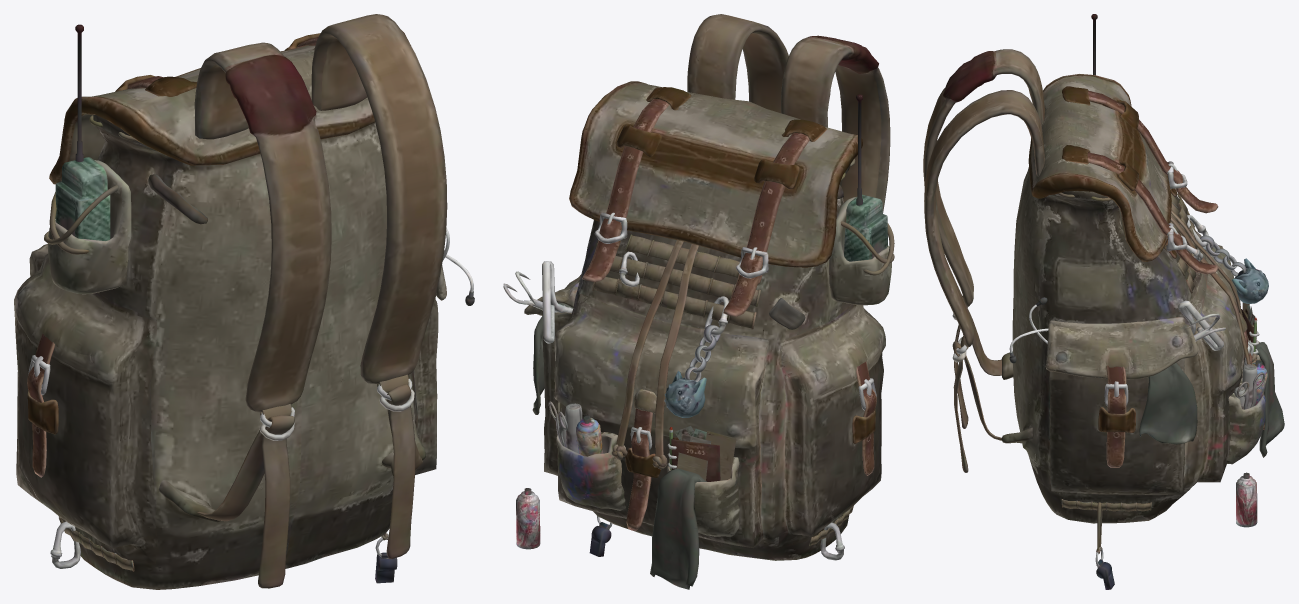
The model's file is backpack1.glb.
The picture shows the model from 3 angles, left to right: view 1: azimuth 30°, elevation 25°; view 2: azimuth 150°, elevation 25°; view 3: azimuth 270°, elevation 25°; orthographic projection. The views are drawn at different scales.
Visible parts, largest first — view 1: backpack; view 2: backpack; view 3: backpack.
Boxes of the visible parts, x1=… form: backpack: x1=14, y1=14, x2=474, y2=589; backpack: x1=503, y1=14, x2=894, y2=589; backpack: x1=923, y1=14, x2=1284, y2=589.
Size of the model in its own units: 0.521 by 0.8105 by 0.5748.
1 material, 1 textured.
